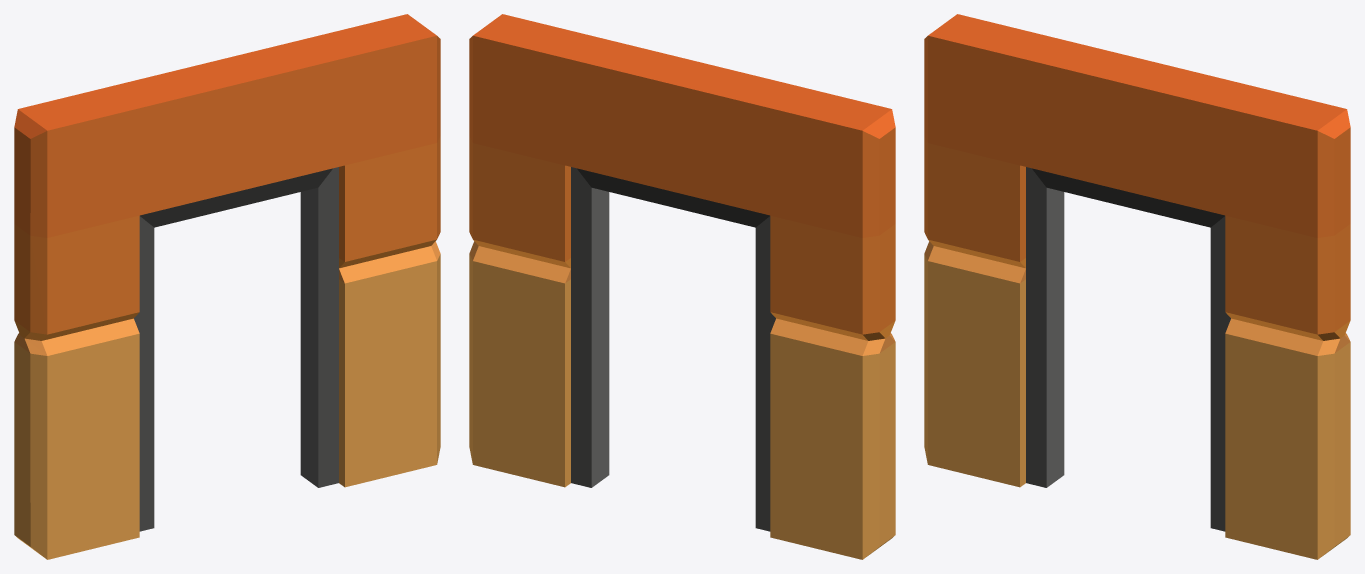
File: kkr_wall_doorway.obj
The picture shows the model from 3 angles, left to right: view 1: azimuth 30°, elevation 25°; view 2: azimuth 150°, elevation 25°; view 3: azimuth 330°, elevation 25°; orthographic projection.
Size of the model in its own units: 4 by 4 by 0.5.
